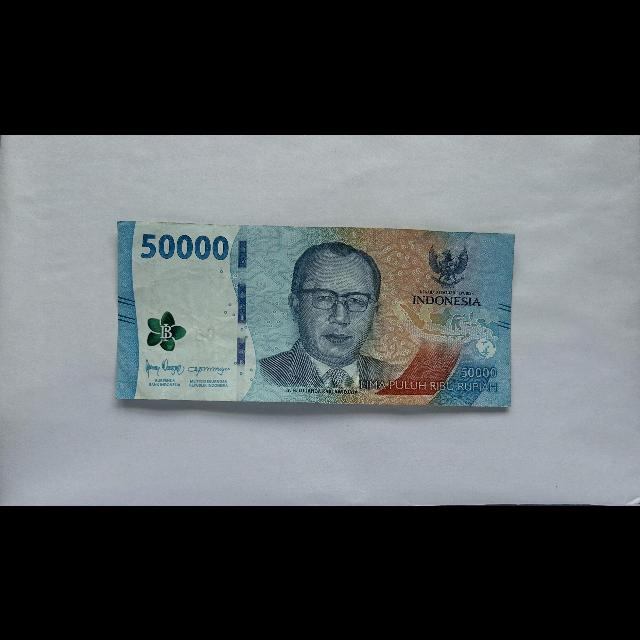Asli-50k: (114, 217, 517, 409)
Tinta-Asli-50k: (147, 309, 188, 351)
